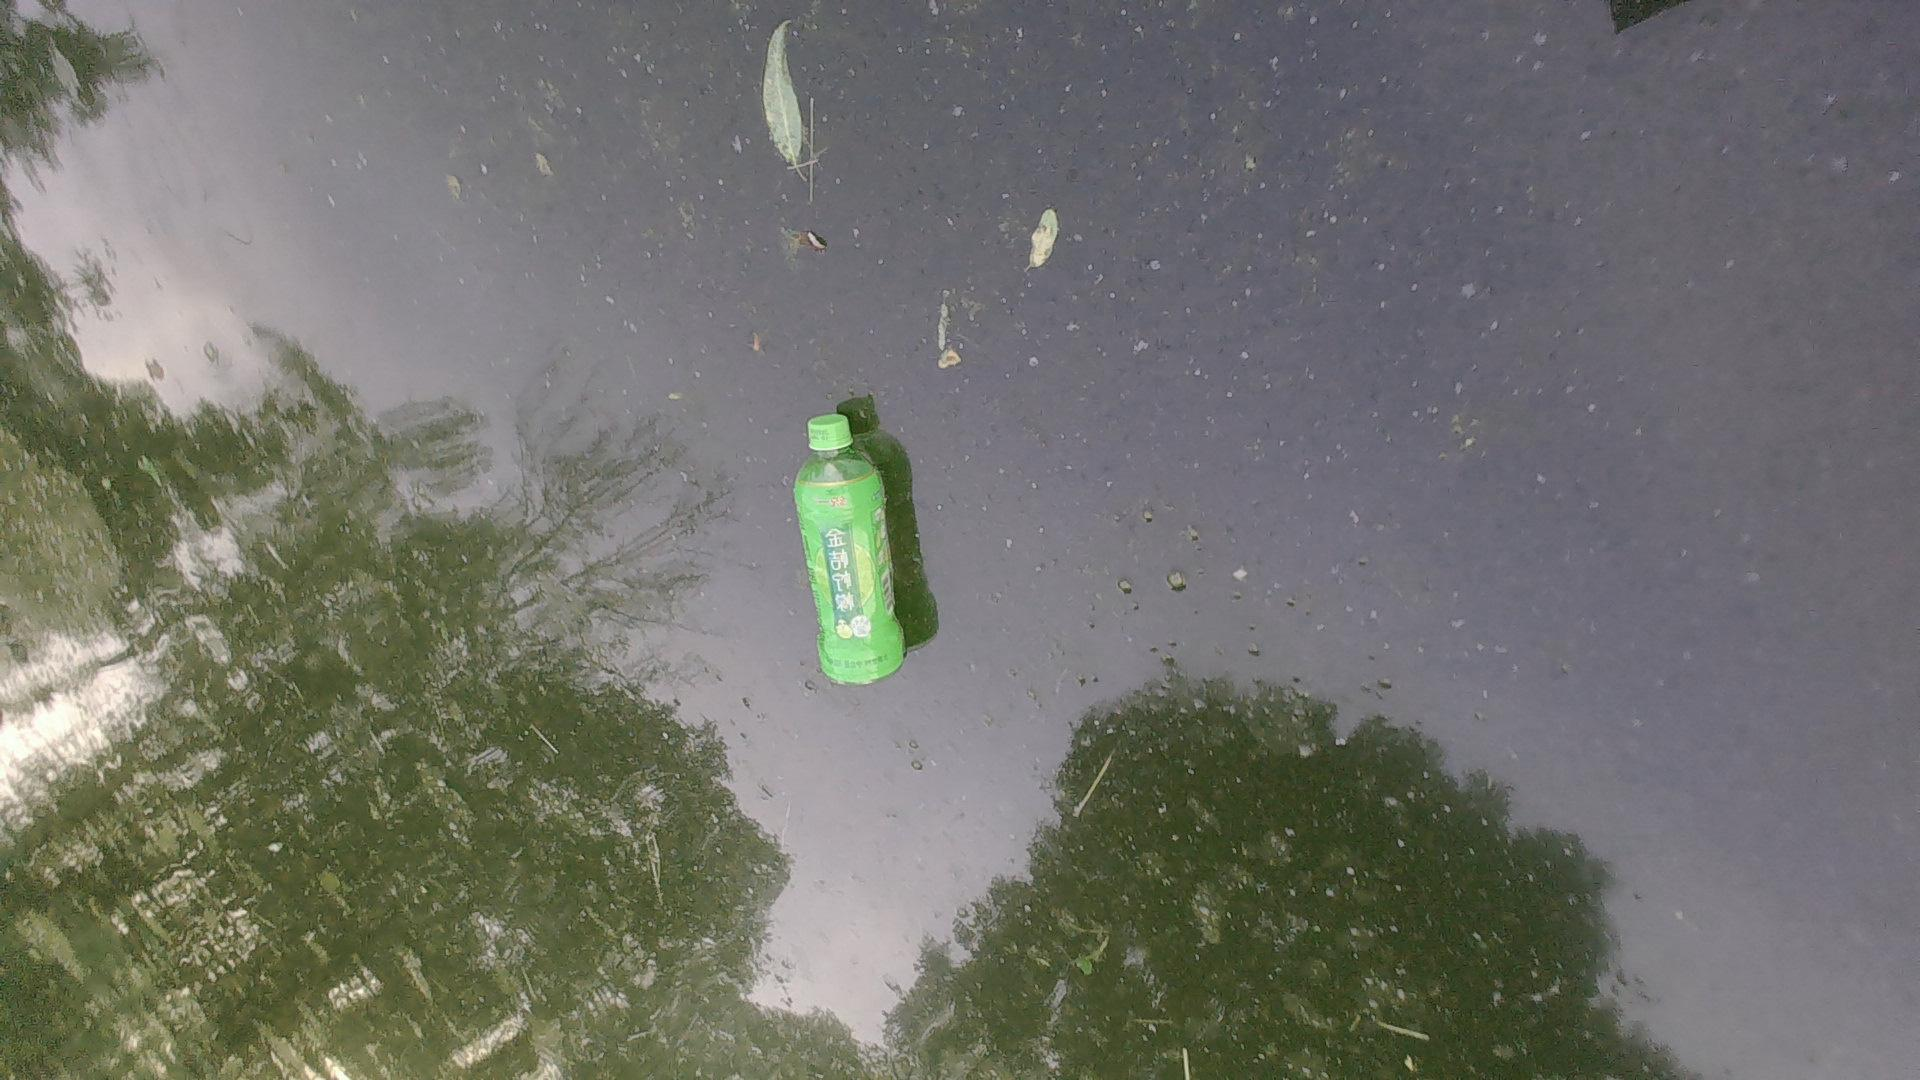Plastic: (782, 401, 913, 694)
